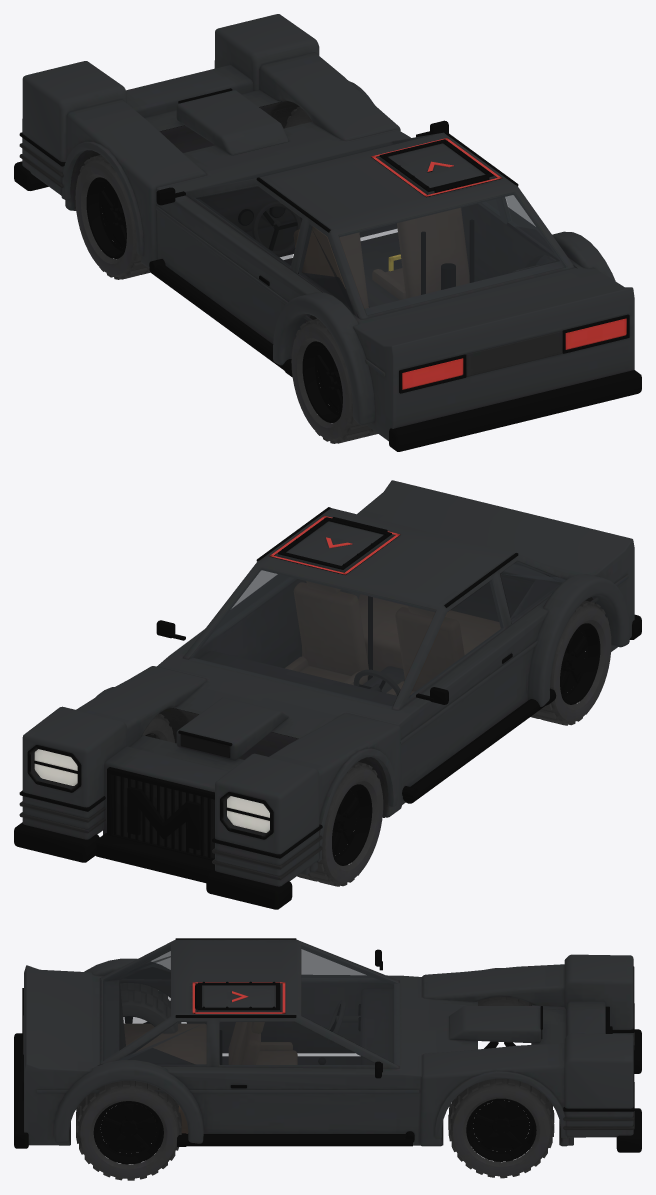
The model's file is maniak_car.cc4e7093.glb.
3 renders of one model, top to bottom at view 1: azimuth 30°, elevation 25°; view 2: azimuth 150°, elevation 25°; view 3: azimuth 270°, elevation 25°, orthographic. The views are drawn at different scales.
Visible parts, largest first — view 1: body_lod0, glass, eject_seat, wheel_rl, wheel_fl, hatch; view 2: body_lod0, glass, eject_seat, wheel_fl, wheel_rl, hatch; view 3: body_lod0, glass, wheel_fr, wheel_rr, hatch, wheel_rl, eject_seat, wheel_fl.
Boxes of the visible parts, x1,y1,x2,y2 form: body_lod0: [14, 14, 641, 451]; glass: [196, 135, 566, 317]; eject_seat: [372, 208, 474, 299]; wheel_rl: [291, 319, 377, 443]; wheel_fl: [75, 155, 150, 279]; hatch: [379, 139, 493, 194]; body_lod0: [14, 480, 641, 909]; glass: [189, 561, 565, 708]; eject_seat: [285, 581, 372, 684]; wheel_fl: [297, 762, 383, 886]; wheel_rl: [531, 600, 611, 725]; hatch: [278, 517, 391, 572]; body_lod0: [14, 938, 641, 1152]; glass: [103, 944, 399, 1065]; wheel_fr: [448, 1078, 554, 1178]; wheel_rr: [76, 1080, 181, 1180]; hatch: [195, 981, 280, 1012]; wheel_rl: [120, 983, 181, 1033]; eject_seat: [219, 1022, 264, 1064]; wheel_fl: [478, 997, 531, 1048].
Size of what is drawn, in the model's own units: 2.4 by 1.45 by 5.36.
2 materials, 1 textured.
